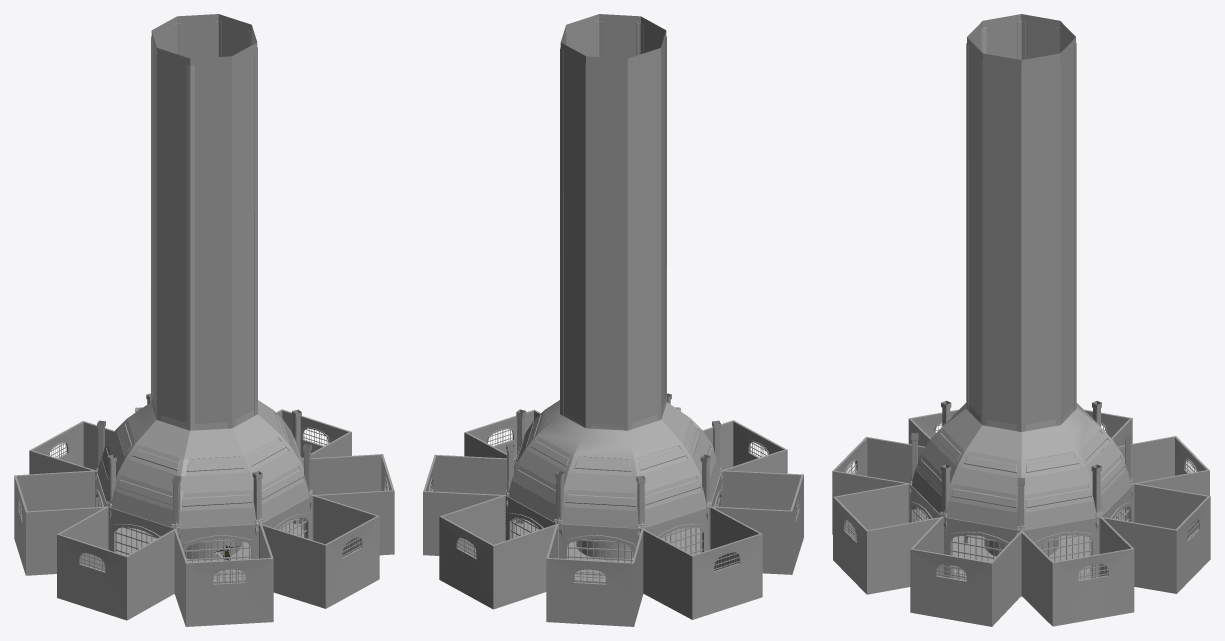
The model's file is Hub.fbx.
The picture shows the model from 3 angles, left to right: view 1: azimuth 30°, elevation 25°; view 2: azimuth 150°, elevation 25°; view 3: azimuth 270°, elevation 25°; orthographic projection.
Visible parts, largest first — view 1: polySurface10, pCube3 (×6), pCube5 (×7), pCube4 (×5), polySurface5, polySurface6, pCube1 (×3), polySurface4, polySurface7, pCylinder1, CellDoor, polySurface3 (+1 smaller); view 2: polySurface10, pCube3 (×6), pCube4 (×7), pCube5 (×5), polySurface3, polySurface2, pCube1 (×3), polySurface4, polySurface9, pCylinder1, pCylinder3, polySurface5 (+1 smaller); view 3: polySurface10, pCube3 (×6), pCube5 (×6), pCube4 (×6), polySurface8, pCube1 (×3), polySurface9, polySurface7, pCylinder1, polySurface2, CellDoor (×2), polySurface6.
Part boxes in pixels (left/top/right/bottom): polySurface10: left=97, top=14, right=311, bottom=528; pCube3 (×6): left=14, top=409, right=378, bottom=626; pCube5 (×7): left=14, top=421, right=394, bottom=626; pCube4 (×5): left=25, top=450, right=383, bottom=620; polySurface5: left=172, top=64, right=194, bottom=511; polySurface6: left=227, top=61, right=254, bottom=507; pCube1 (×3): left=108, top=496, right=311, bottom=558; polySurface4: left=114, top=52, right=160, bottom=491; polySurface7: left=254, top=47, right=305, bottom=480; pCylinder1: left=117, top=520, right=303, bottom=581; CellDoor: left=184, top=538, right=251, bottom=583; polySurface3: left=101, top=36, right=154, bottom=457; polySurface10: left=506, top=14, right=720, bottom=528; pCube3 (×6): left=440, top=410, right=803, bottom=626; pCube4 (×7): left=423, top=420, right=803, bottom=626; pCube5 (×5): left=434, top=449, right=792, bottom=619; polySurface3: left=623, top=64, right=645, bottom=511; polySurface2: left=563, top=61, right=590, bottom=507; pCube1 (×3): left=506, top=496, right=709, bottom=558; polySurface4: left=657, top=52, right=703, bottom=491; polySurface9: left=511, top=47, right=563, bottom=480; pCylinder1: left=514, top=520, right=701, bottom=581; pCylinder3: left=576, top=538, right=633, bottom=560; polySurface5: left=663, top=36, right=716, bottom=457; polySurface10: left=910, top=14, right=1132, bottom=530; pCube3 (×6): left=833, top=437, right=1209, bottom=626; pCube5 (×6): left=833, top=436, right=1209, bottom=626; pCube4 (×6): left=832, top=436, right=1210, bottom=626; polySurface8: left=1017, top=66, right=1025, bottom=512; pCube1 (×3): left=910, top=484, right=1099, bottom=578; polySurface9: left=1056, top=58, right=1093, bottom=500; polySurface7: left=948, top=58, right=986, bottom=500; pCylinder1: left=952, top=535, right=1091, bottom=596; polySurface2: left=1074, top=43, right=1127, bottom=470; CellDoor (×2): left=950, top=535, right=1091, bottom=580; polySurface6: left=915, top=43, right=968, bottom=470.
Size of the model in its own units: 32.16 by 48.14 by 32.16.
